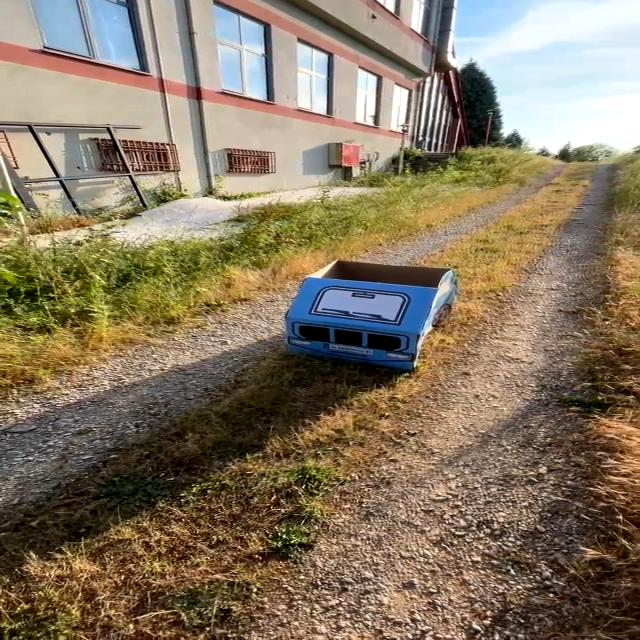blue_car: (256, 222, 494, 423)
